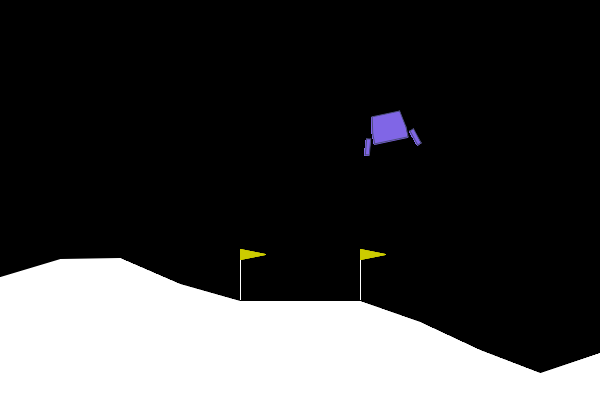lander: (356, 106, 423, 158)
